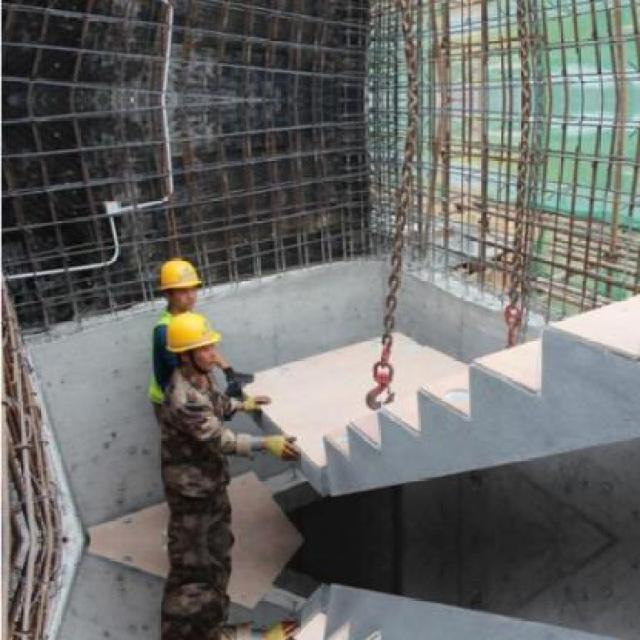helmet: (164, 304, 227, 378), (152, 251, 205, 312)
